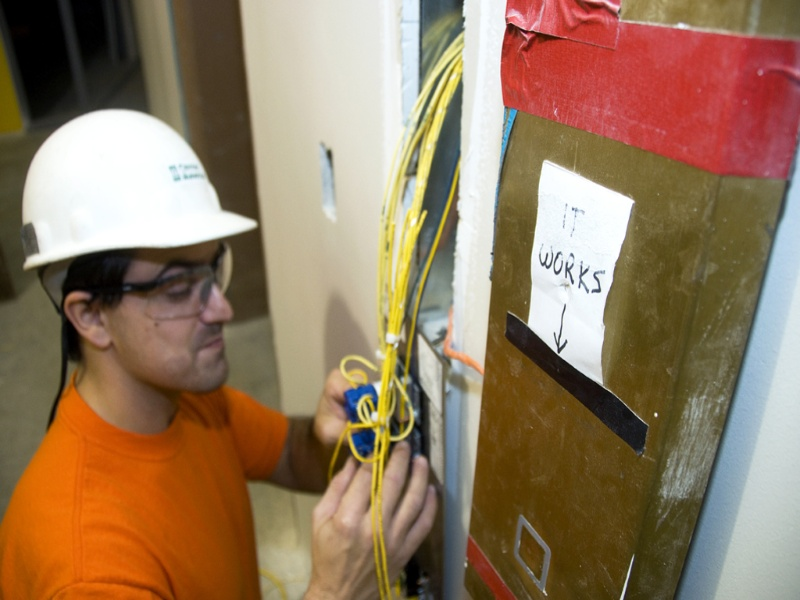Baret: (19, 108, 250, 251)
Gozluk: (94, 254, 230, 319)
